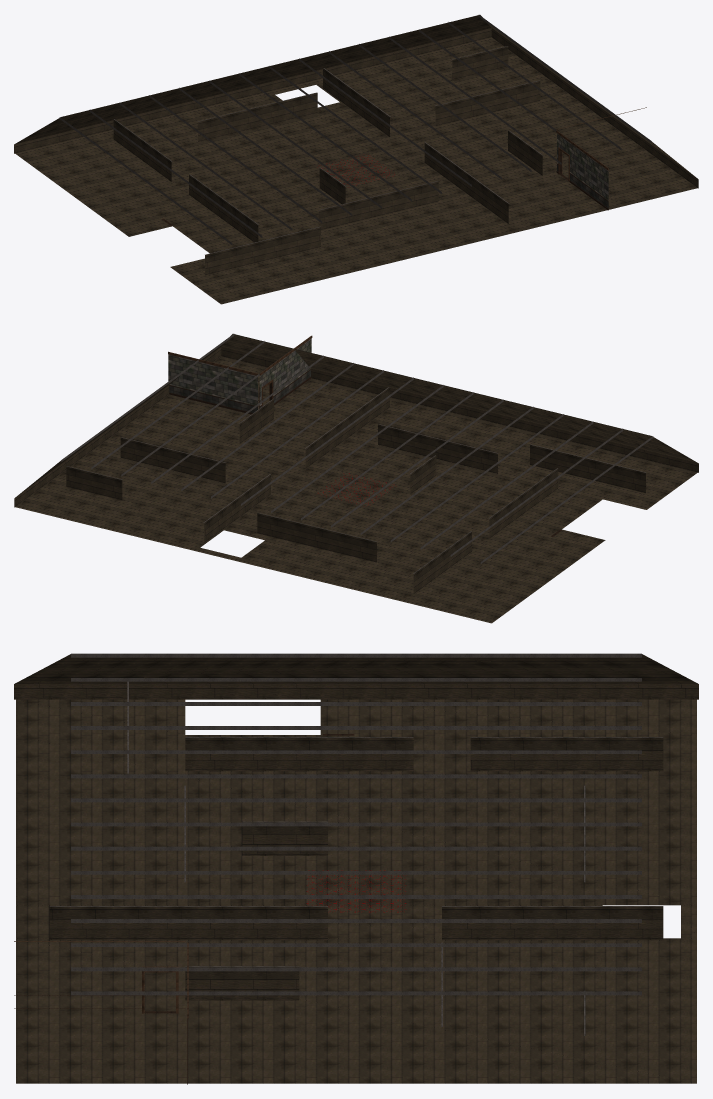
The model's file is manor_at.glb.
The picture shows the model from 3 angles, top to bottom: view 1: azimuth 30°, elevation 25°; view 2: azimuth 150°, elevation 25°; view 3: azimuth 270°, elevation 25°; orthographic projection. The views are drawn at different scales.
Parts seen in each view (by area): view 1: manor_at; view 2: manor_at; view 3: manor_at.
Boxes of the visible parts, bbox=[...] form: manor_at: bbox=[14, 14, 698, 304]; manor_at: bbox=[14, 333, 698, 623]; manor_at: bbox=[14, 653, 698, 1084].
Size of the model in its own units: 64 by 5.4 by 48.
Materials: 8 (8 with a texture image).
